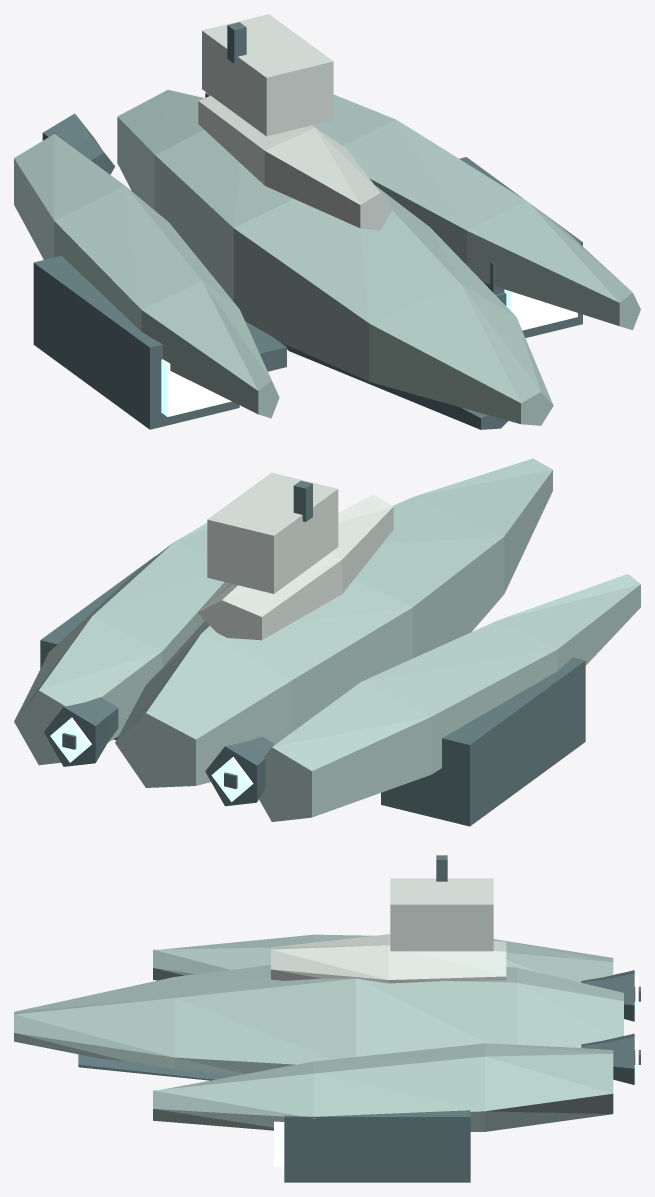
The picture shows the model from 3 angles, top to bottom: view 1: azimuth 30°, elevation 25°; view 2: azimuth 150°, elevation 25°; view 3: azimuth 270°, elevation 25°; orthographic projection. The views are drawn at different scales.
Size of the model in its own units: 15.47 by 9.76 by 24.26.
